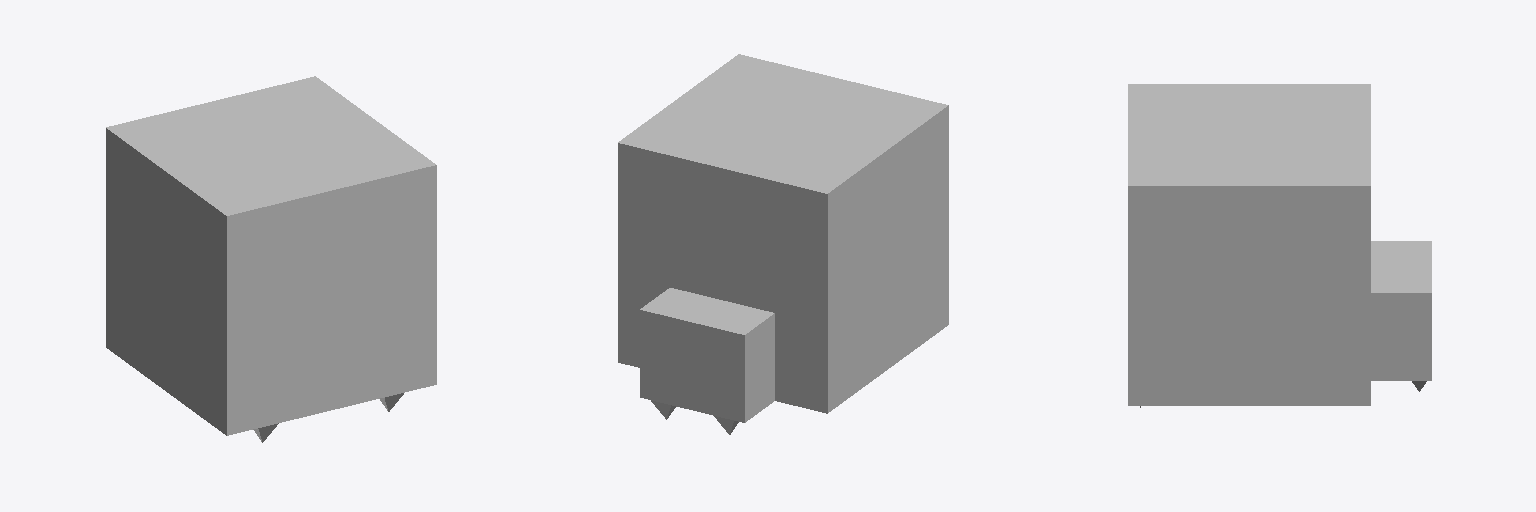
The model's file is Cub_E.obj.
The picture shows the model from 3 angles: view 1: azimuth 30°, elevation 25°; view 2: azimuth 150°, elevation 25°; view 3: azimuth 270°, elevation 25°; orthographic projection.
Visible parts, largest first — view 1: Cube; view 2: Cube, Cube.001; view 3: Cube, Cube.001.
Part boxes in pixels (x1,y1,x2,y2): Cube: (106,76,436,435); Cube: (618,54,948,413); Cube.001: (640,288,774,422); Cube: (1128,84,1370,405); Cube.001: (1371,241,1431,380).
Bounding box in the file's own units: 2 × 2.2 × 2.5.